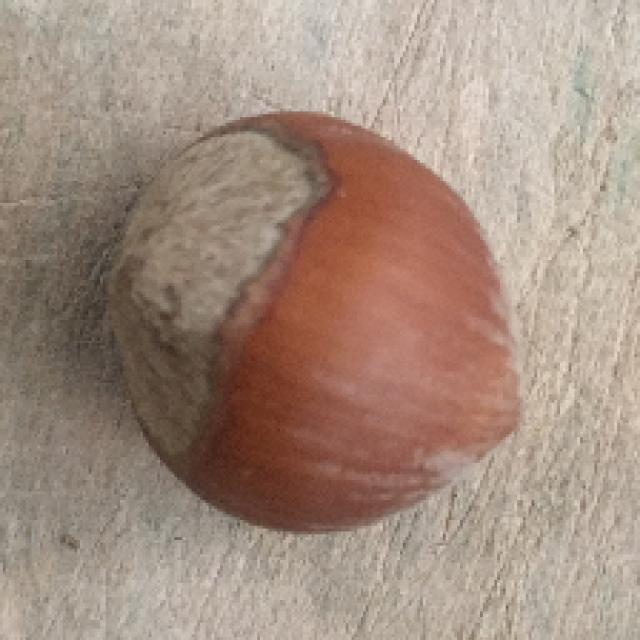qualityHazelnut: (88, 106, 540, 529)
